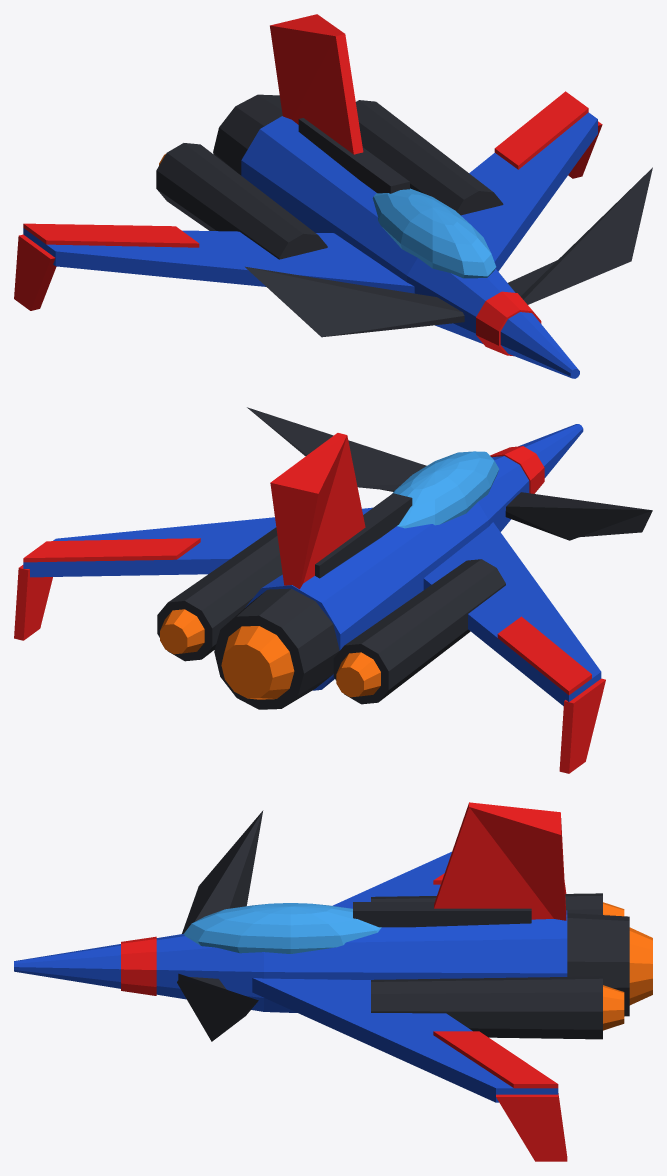
File: ship.obj
3 renders of one model, top to bottom at view 1: azimuth 30°, elevation 25°; view 2: azimuth 150°, elevation 25°; view 3: azimuth 270°, elevation 25°, orthographic. The views are drawn at different scales.
Visible parts, largest first — view 1: ship; view 2: ship; view 3: ship.
Boxes of the visible parts, left/top/right/bottom form: ship: left=14, top=14, right=652, bottom=378; ship: left=14, top=407, right=652, bottom=773; ship: left=14, top=802, right=652, bottom=1161.
Bounding box in the file's own units: 3.46 × 1.4 × 3.58.
